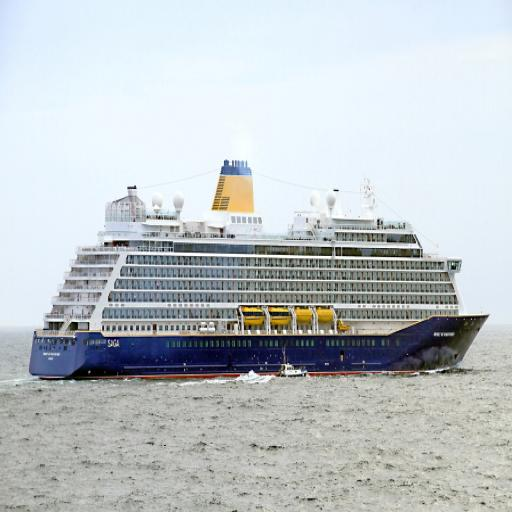cruises: (27, 144, 489, 384)
